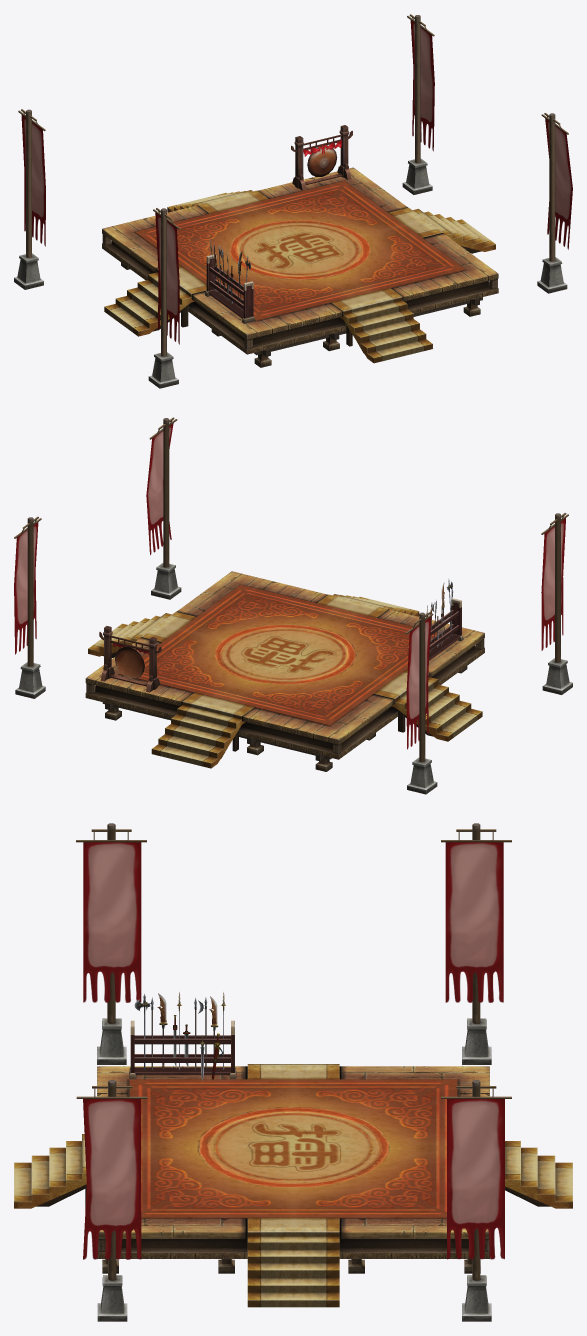
The model's file is ChineseArena1glb.glb.
The picture shows the model from 3 angles, top to bottom: view 1: azimuth 30°, elevation 25°; view 2: azimuth 150°, elevation 25°; view 3: azimuth 270°, elevation 25°; orthographic projection. The views are drawn at different scales.
Visible parts, largest first — view 1: Arena; view 2: Arena; view 3: Arena.
Boxes of the visible parts, bbox=[...] form: Arena: bbox=[14, 14, 572, 388]; Arena: bbox=[14, 417, 572, 794]; Arena: bbox=[14, 823, 572, 1321].
Bounding box in the file's own units: 10.67 × 4.45 × 9.32.
2 materials, 2 textured.
